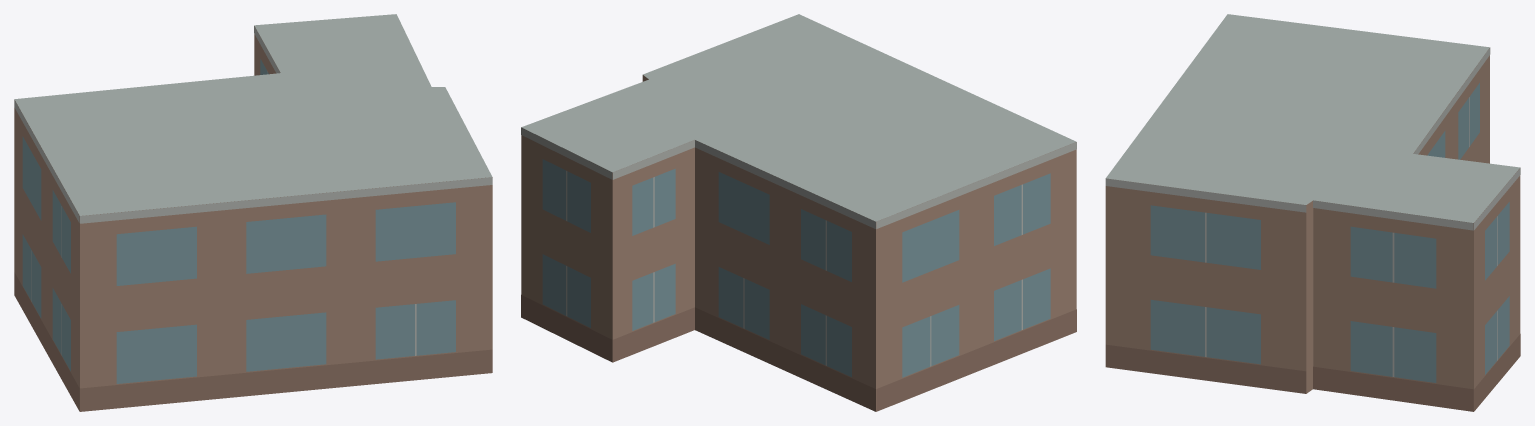
File: survey-upis-32682197.glb
The picture shows the model from 3 angles, left to right: view 1: azimuth 30°, elevation 25°; view 2: azimuth 150°, elevation 25°; view 3: azimuth 270°, elevation 25°; orthographic projection. The views are drawn at different scales.
Parts seen in each view (by area): view 1: survey-upis-32682197.tmp; view 2: survey-upis-32682197.tmp; view 3: survey-upis-32682197.tmp.
Boxes of the visible parts, <box> form: survey-upis-32682197.tmp: <box>14,14,492,411</box>; survey-upis-32682197.tmp: <box>521,14,1076,411</box>; survey-upis-32682197.tmp: <box>1105,14,1520,411</box>.
Size of the model in its own units: 14.5 by 6.1 by 12.16.
